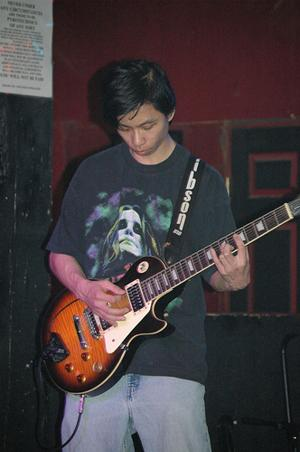person: (49, 58, 251, 452)
